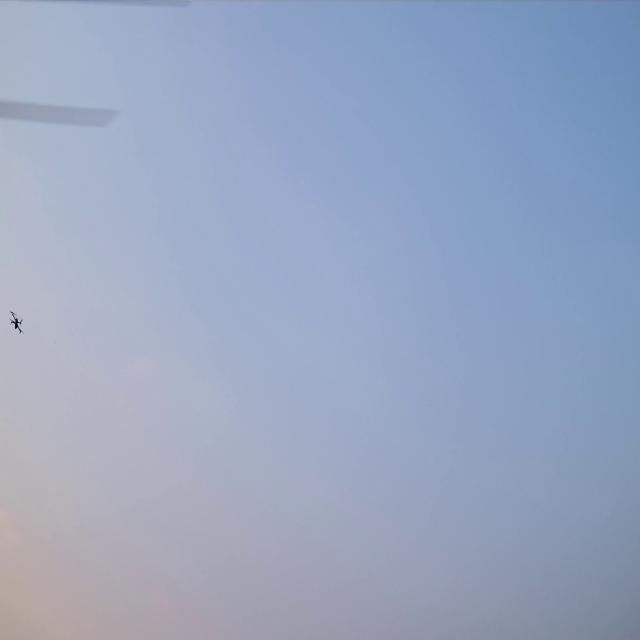UAV: (11, 312, 21, 332)
